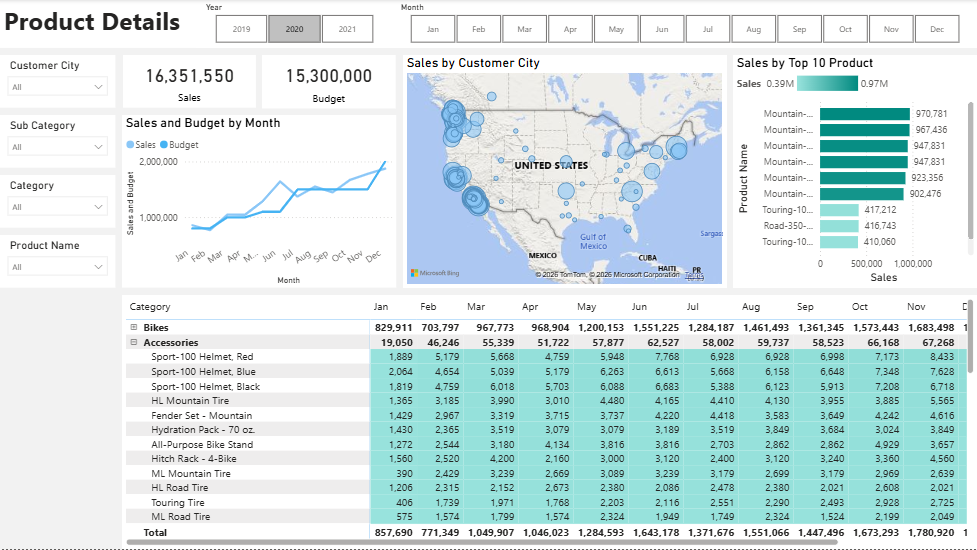

What the dashboard file says about the page in this screenshot:
{"tool":"powerbi","page":{"name":"Product Details","canvas":[1280,720],"ordinal":2},"visuals":[{"type":"textbox","box":[0,0,1280,64],"z":0},{"type":"slicer","fields":{"Values":["DIM_Calendar.Year"]},"box":[256,0,256,64],"z":1000},{"type":"slicer","fields":{"Values":["DIM_Calendar.MonthShort"]},"box":[512,0,768,64],"z":2000},{"type":"slicer","fields":{"Values":["DIM_Customers.Customer City"]},"box":[0,73,150.5,69.3],"z":3000},{"type":"slicer","fields":{"Values":["DIM_Products.Product Category"]},"box":[0,229.9,150.5,69.3],"z":4000},{"type":"slicer","fields":{"Values":["DIM_Products.Product Name"]},"box":[0,308.4,150.5,69.3],"z":5000},{"type":"slicer","fields":{"Values":["DIM_Products.Sub Category"]},"box":[0,151.4,150.5,69.3],"z":6000},{"type":"lineChart","fields":{"Category":["DIM_Calendar.MonthShort"],"Y":["Analysis Metrics.Sales","Analysis Metrics.Budget"]},"box":[159.8,151.8,358.7,226.4],"z":7000},{"type":"card","fields":{"Values":["Analysis Metrics.Sales"]},"box":[160.7,72.8,174,69.2],"z":8000},{"type":"map","fields":{"Category":["DIM_Customers.Customer City"],"Size":["Analysis Metrics.Sales"]},"box":[527.3,72.8,423.5,304.5],"z":9000},{"type":"card","fields":{"Values":["Analysis Metrics.Budget"]},"box":[343.6,72.8,174.9,70.1],"z":10000},{"type":"pivotTable","fields":{"Columns":["DIM_Calendar.MonthShort"],"Rows":["DIM_Products.Product Category","DIM_Products.Product Name"],"Values":["Analysis Metrics.Sales"]},"box":[159.8,387.1,1120.4,332.9],"z":11000},{"type":"clusteredBarChart","title":"Sales by Top 10 Product","fields":{"Category":["DIM_Products.Product Name"],"Y":["Analysis Metrics.Sales"]},"box":[959.7,72.8,320.5,304.5],"z":12000}]}

Visuals, with their boxes in screenshot pixels (x1, y1, x2, y2), scaled from the page's 1280x720 canvas onto the 977x550 screenshot:
textbox: {"left": 0, "top": 0, "right": 976, "bottom": 49}
slicer - DIM_Calendar.Year: {"left": 195, "top": 0, "right": 391, "bottom": 49}
slicer - DIM_Calendar.MonthShort: {"left": 391, "top": 0, "right": 976, "bottom": 49}
slicer - DIM_Customers.Customer City: {"left": 0, "top": 56, "right": 115, "bottom": 109}
slicer - DIM_Products.Product Category: {"left": 0, "top": 176, "right": 115, "bottom": 229}
slicer - DIM_Products.Product Name: {"left": 0, "top": 236, "right": 115, "bottom": 289}
slicer - DIM_Products.Sub Category: {"left": 0, "top": 116, "right": 115, "bottom": 169}
lineChart - DIM_Calendar.MonthShort x Analysis Metrics.Sales: {"left": 122, "top": 116, "right": 396, "bottom": 289}
card - Analysis Metrics.Sales: {"left": 123, "top": 56, "right": 255, "bottom": 108}
map - DIM_Customers.Customer City x Analysis Metrics.Sales: {"left": 402, "top": 56, "right": 726, "bottom": 288}
card - Analysis Metrics.Budget: {"left": 262, "top": 56, "right": 396, "bottom": 109}
pivotTable - DIM_Calendar.MonthShort x DIM_Products.Product Category: {"left": 122, "top": 296, "right": 976, "bottom": 549}
"Sales by Top 10 Product" clusteredBarChart: {"left": 733, "top": 56, "right": 976, "bottom": 288}
